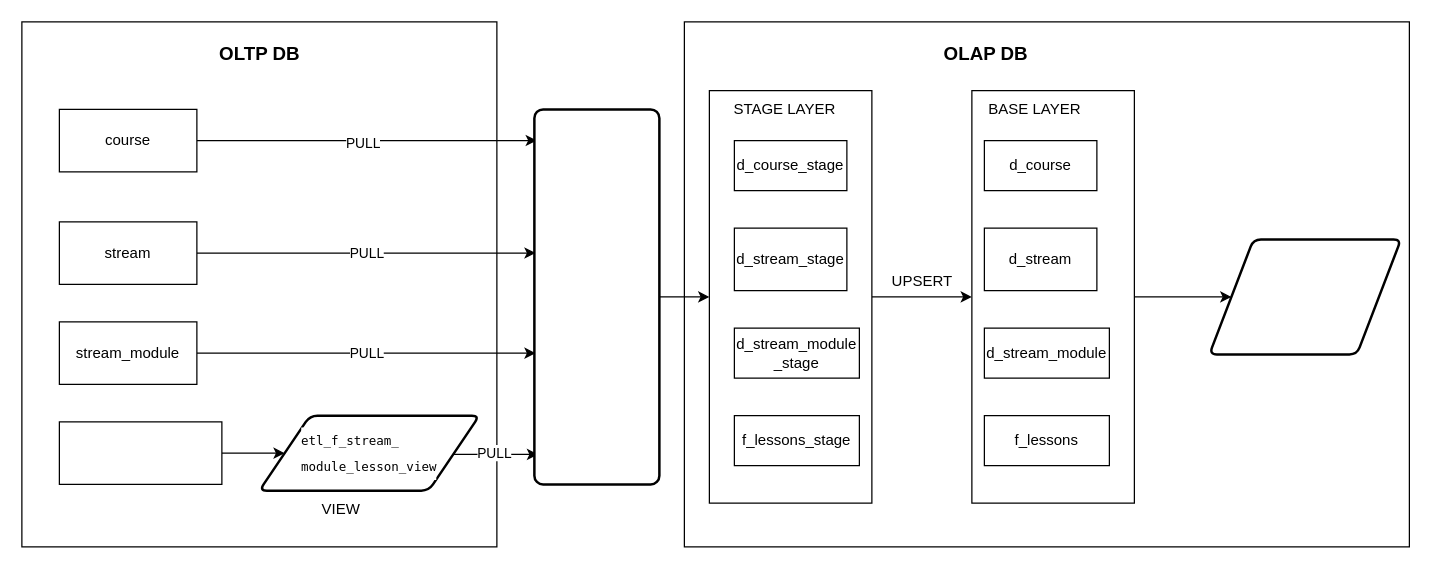
Some shapes in this 1431 by 569 pixel diagram are drawn without their labels. The shapes that lost their labels are listed below. From the top down, each one's centre as x and y in pixels, then its label:
point (596, 296): ETL
point (1305, 296): f_lessons_ datamart
point (140, 452): stream_module_lesson
